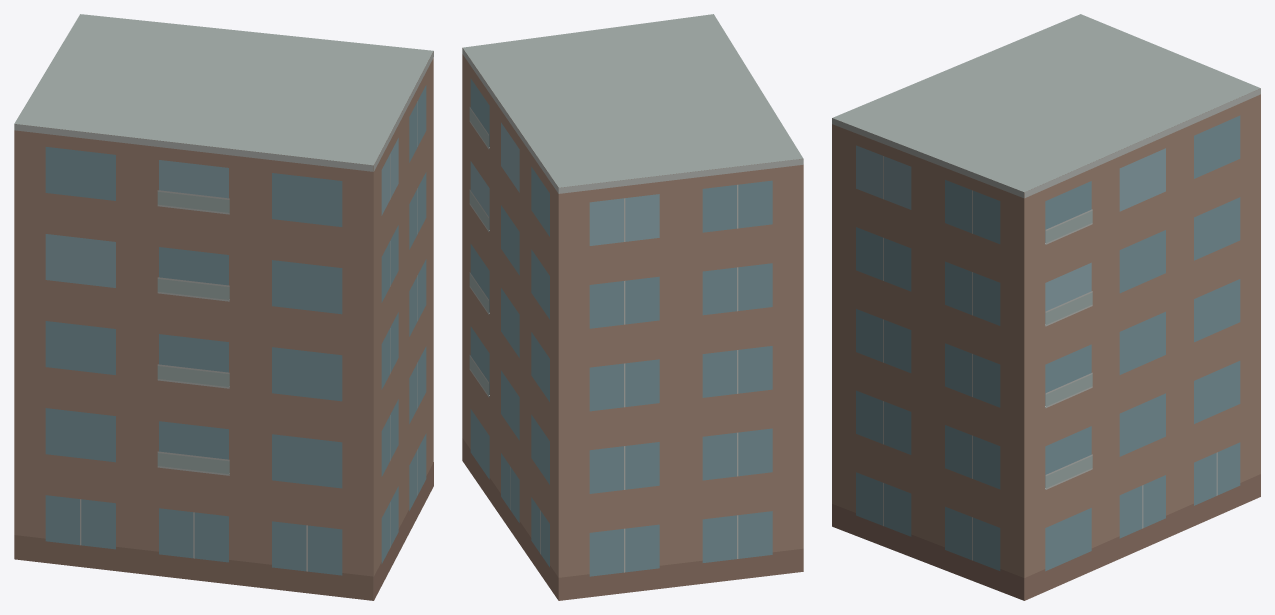
Rendered from survey-upis-32890847.glb.
3 views of the same model, side by side, from view 1: azimuth 30°, elevation 25°; view 2: azimuth 150°, elevation 25°; view 3: azimuth 270°, elevation 25° (orthographic). The views are drawn at different scales.
Parts seen in each view (by area): view 1: survey-upis-32890847.tmp; view 2: survey-upis-32890847.tmp; view 3: survey-upis-32890847.tmp.
Boxes of the visible parts, x1,y1,x2,y2 form: survey-upis-32890847.tmp: [14, 14, 433, 600]; survey-upis-32890847.tmp: [462, 14, 803, 600]; survey-upis-32890847.tmp: [832, 14, 1260, 600].
Size of the model in its own units: 15.26 by 16.3 by 15.51.
